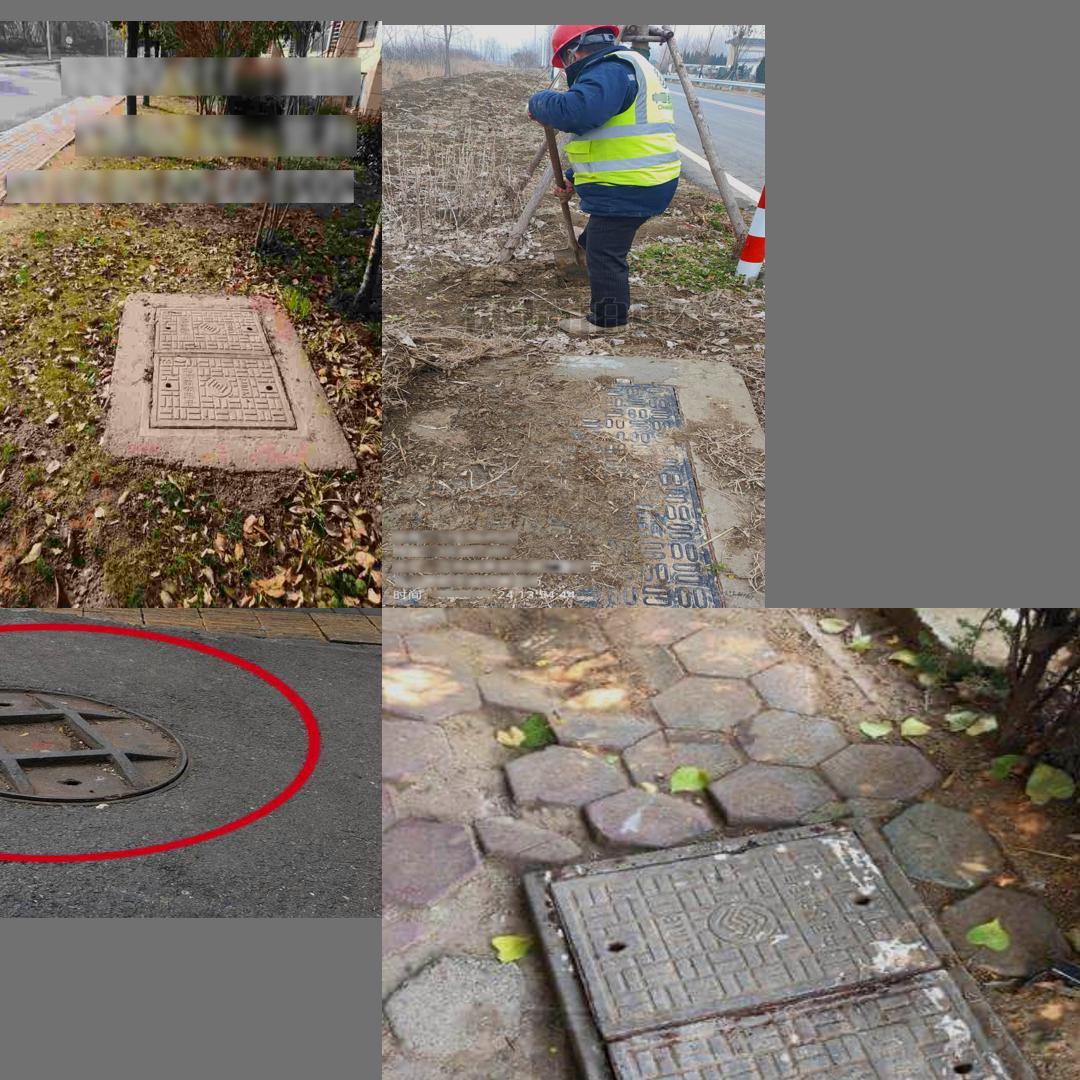good: (526, 814, 1080, 1080), (390, 376, 726, 608), (0, 679, 202, 810), (138, 303, 308, 437)
